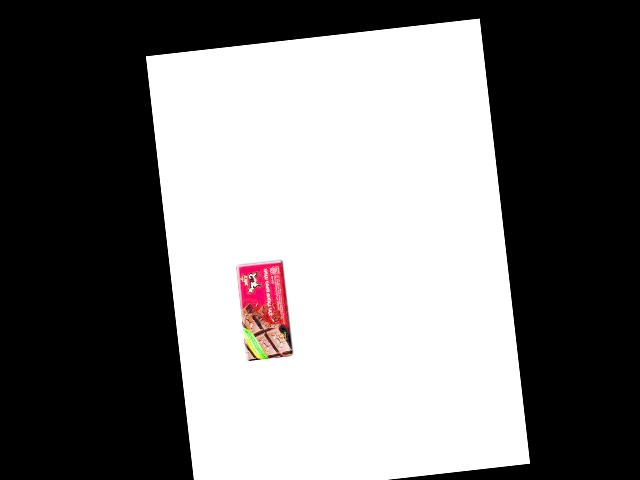chocolate: (233, 256, 297, 361)
